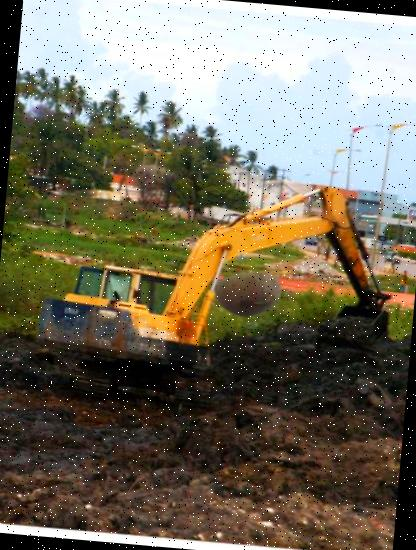Potato: (212, 258, 286, 331)
